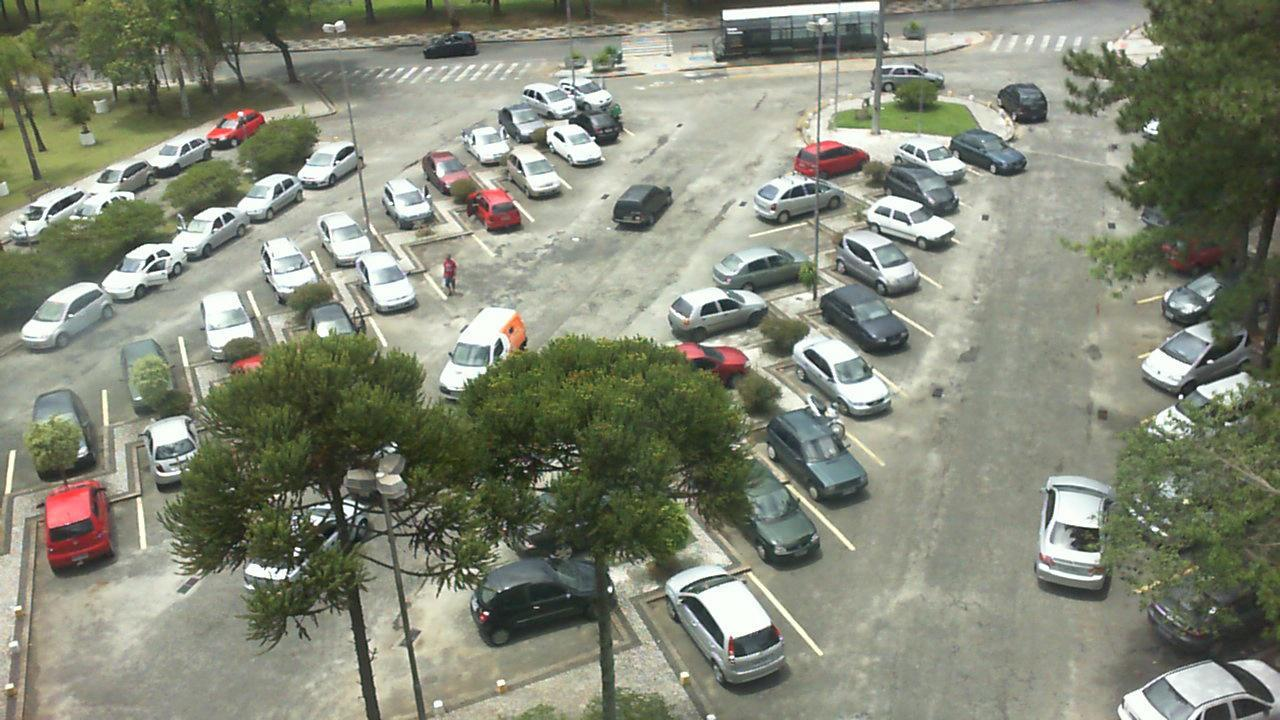empty: (736, 198, 853, 254), (408, 213, 486, 280)
occupied: (644, 549, 805, 698), (470, 562, 648, 684), (701, 451, 849, 586), (771, 323, 900, 430), (747, 399, 879, 499), (810, 282, 918, 368), (832, 231, 938, 309), (678, 281, 797, 348), (851, 194, 956, 265), (189, 275, 272, 364), (711, 242, 827, 299), (874, 166, 978, 226), (252, 241, 334, 314), (361, 250, 438, 327), (316, 203, 391, 272), (458, 179, 534, 246), (760, 168, 868, 213), (897, 137, 982, 189), (410, 140, 480, 201), (530, 120, 606, 176), (450, 118, 522, 175), (366, 170, 435, 228), (495, 150, 569, 204), (563, 99, 635, 150), (798, 142, 885, 179), (491, 98, 554, 148)
